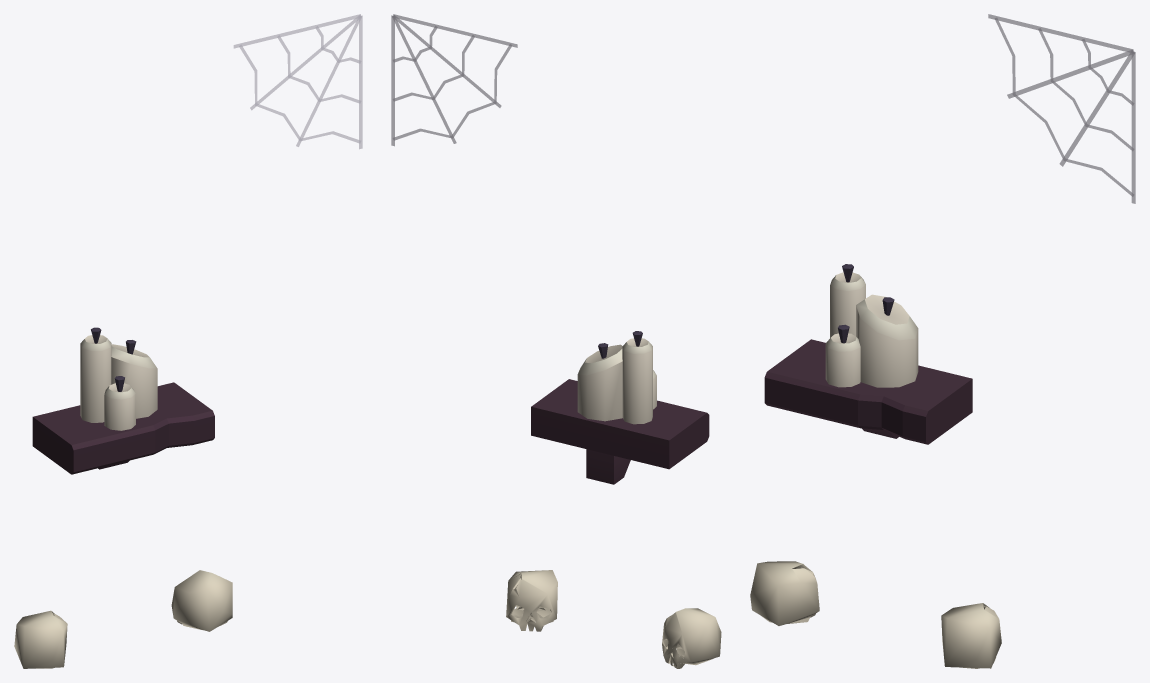
Rendered from overlay_2.fbx.
The picture shows the model from 3 angles, left to right: view 1: azimuth 30°, elevation 25°; view 2: azimuth 150°, elevation 25°; view 3: azimuth 330°, elevation 25°; orthographic projection. The views are drawn at different scales.
Visible parts, largest first — view 1: overlay_2; view 2: overlay_2; view 3: overlay_2.
Boxes of the visible parts, box(x1,y1,x2,y2) form: overlay_2: box(14, 14, 362, 668); overlay_2: box(391, 14, 721, 668); overlay_2: box(750, 14, 1135, 668).
Bounding box in the file's own units: 2.39 × 3.93 × 0.5.
